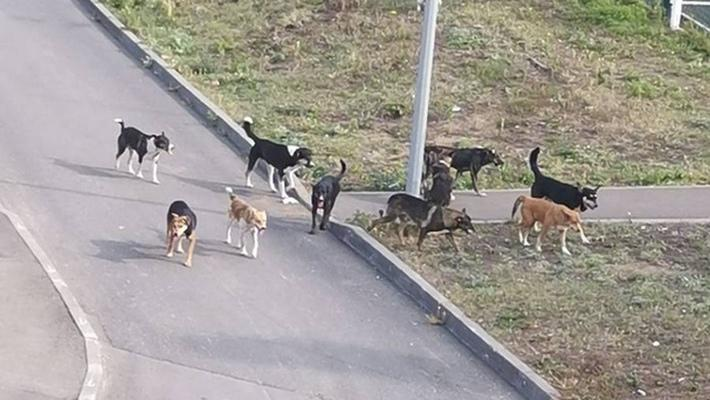dog_aggressive: (367, 193, 476, 259), (421, 146, 505, 197)
normal_dogs: (529, 146, 601, 247), (241, 117, 314, 201), (509, 192, 581, 254), (114, 117, 179, 185), (222, 186, 269, 261), (306, 157, 349, 236), (165, 196, 198, 268)
